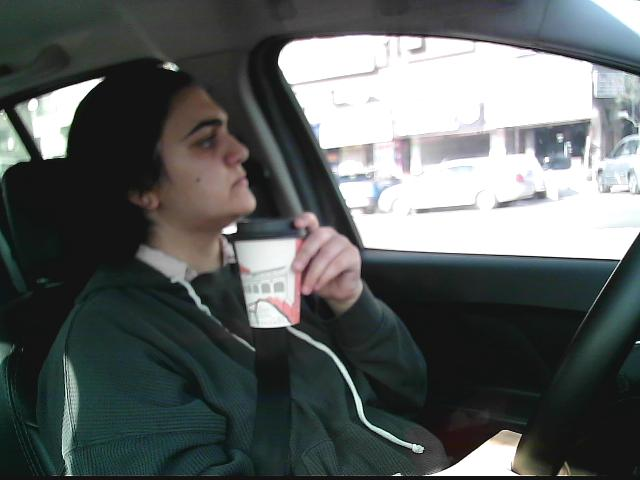Drinking: (224, 213, 309, 332)
